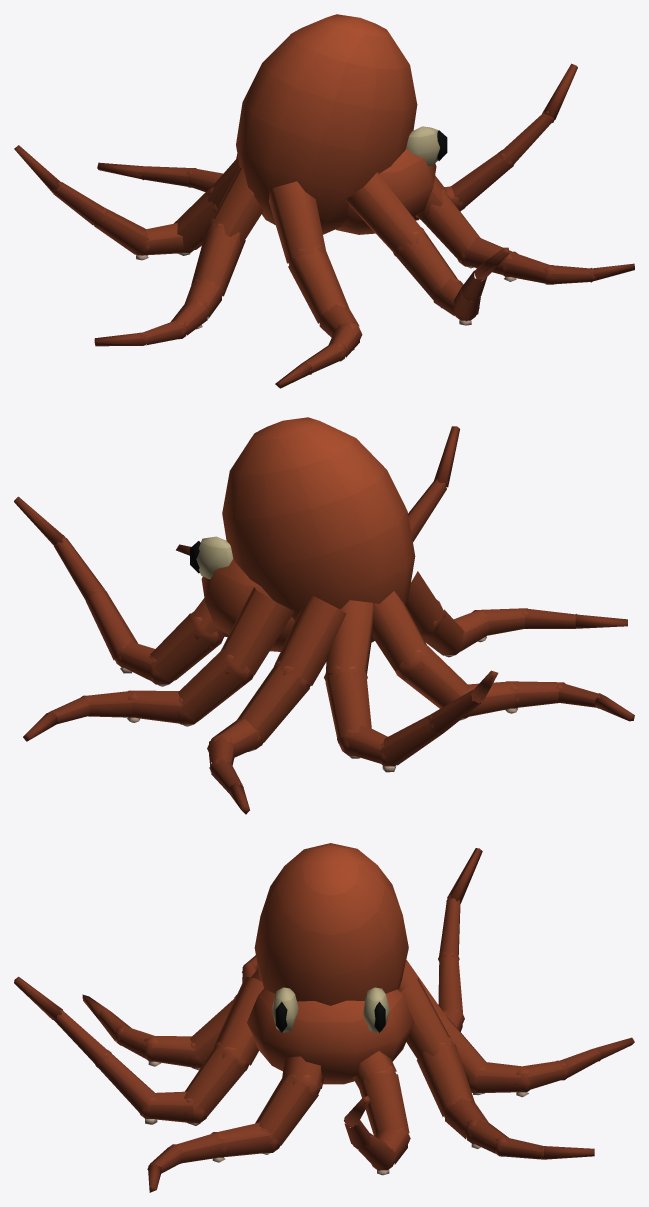
File: octopus.glb
3 views of the same model, one above another, from view 1: azimuth 30°, elevation 25°; view 2: azimuth 150°, elevation 25°; view 3: azimuth 270°, elevation 25° (orthographic). The views are drawn at different scales.
Visible parts, largest first — view 1: octopus; view 2: octopus; view 3: octopus.
Part boxes in pixels (x1=…): octopus: x1=14, y1=14, x2=634, y2=388; octopus: x1=14, y1=417, x2=634, y2=814; octopus: x1=14, y1=843, x2=634, y2=1192.
Size of the model in its own units: 1.79 by 0.8037 by 1.78.
